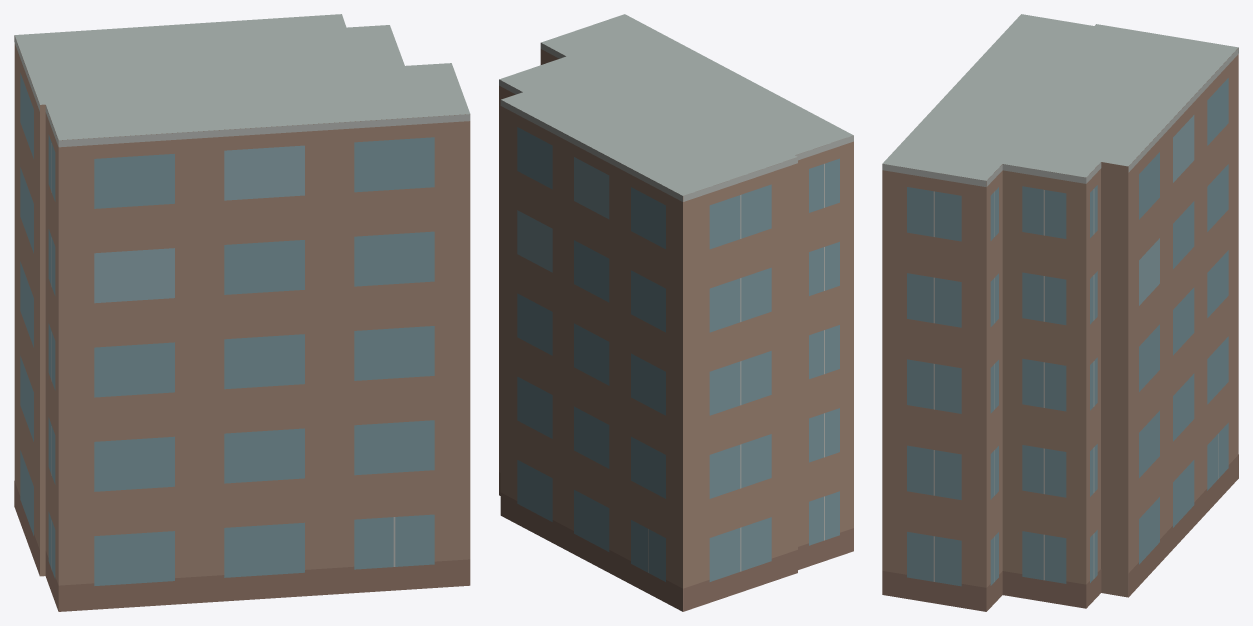
The model's file is survey-upis-32499665.glb.
3 views of the same model, side by side, from view 1: azimuth 30°, elevation 25°; view 2: azimuth 150°, elevation 25°; view 3: azimuth 270°, elevation 25° (orthographic). The views are drawn at different scales.
Visible parts, largest first — view 1: survey-upis-32499665.tmp; view 2: survey-upis-32499665.tmp; view 3: survey-upis-32499665.tmp.
Boxes of the visible parts, x1=… form: survey-upis-32499665.tmp: x1=14, y1=14, x2=470, y2=611; survey-upis-32499665.tmp: x1=499, y1=14, x2=853, y2=611; survey-upis-32499665.tmp: x1=882, y1=14, x2=1238, y2=611.
Bounding box in the file's own units: 13.66 × 16.45 × 12.34.
